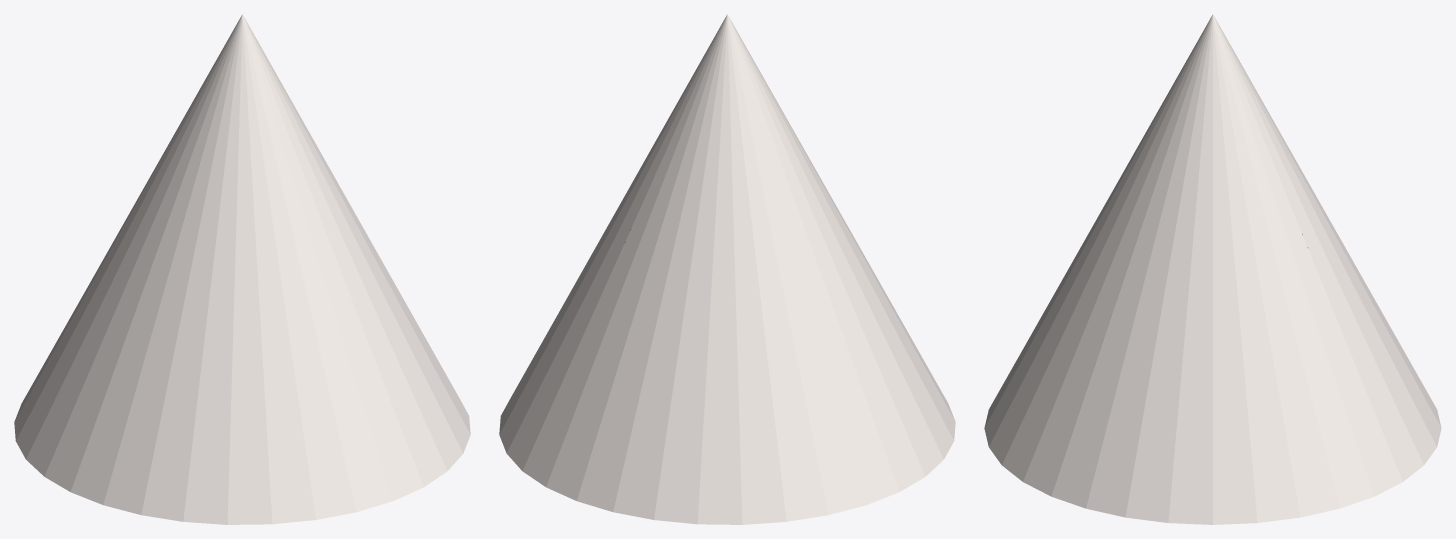
Rendered from Boss.obj.
The picture shows the model from 3 angles, left to right: view 1: azimuth 30°, elevation 25°; view 2: azimuth 150°, elevation 25°; view 3: azimuth 270°, elevation 25°; orthographic projection.
Visible parts, largest first — view 1: 円錐; view 2: 円錐; view 3: 円錐.
Part boxes in pixels (x1,y1,x2,y2): 円錐: (14, 14, 470, 524); 円錐: (499, 14, 955, 524); 円錐: (984, 14, 1441, 524).
Size of the model in its own units: 4 by 4 by 4.
Materials: 1 (1 with a texture image).
